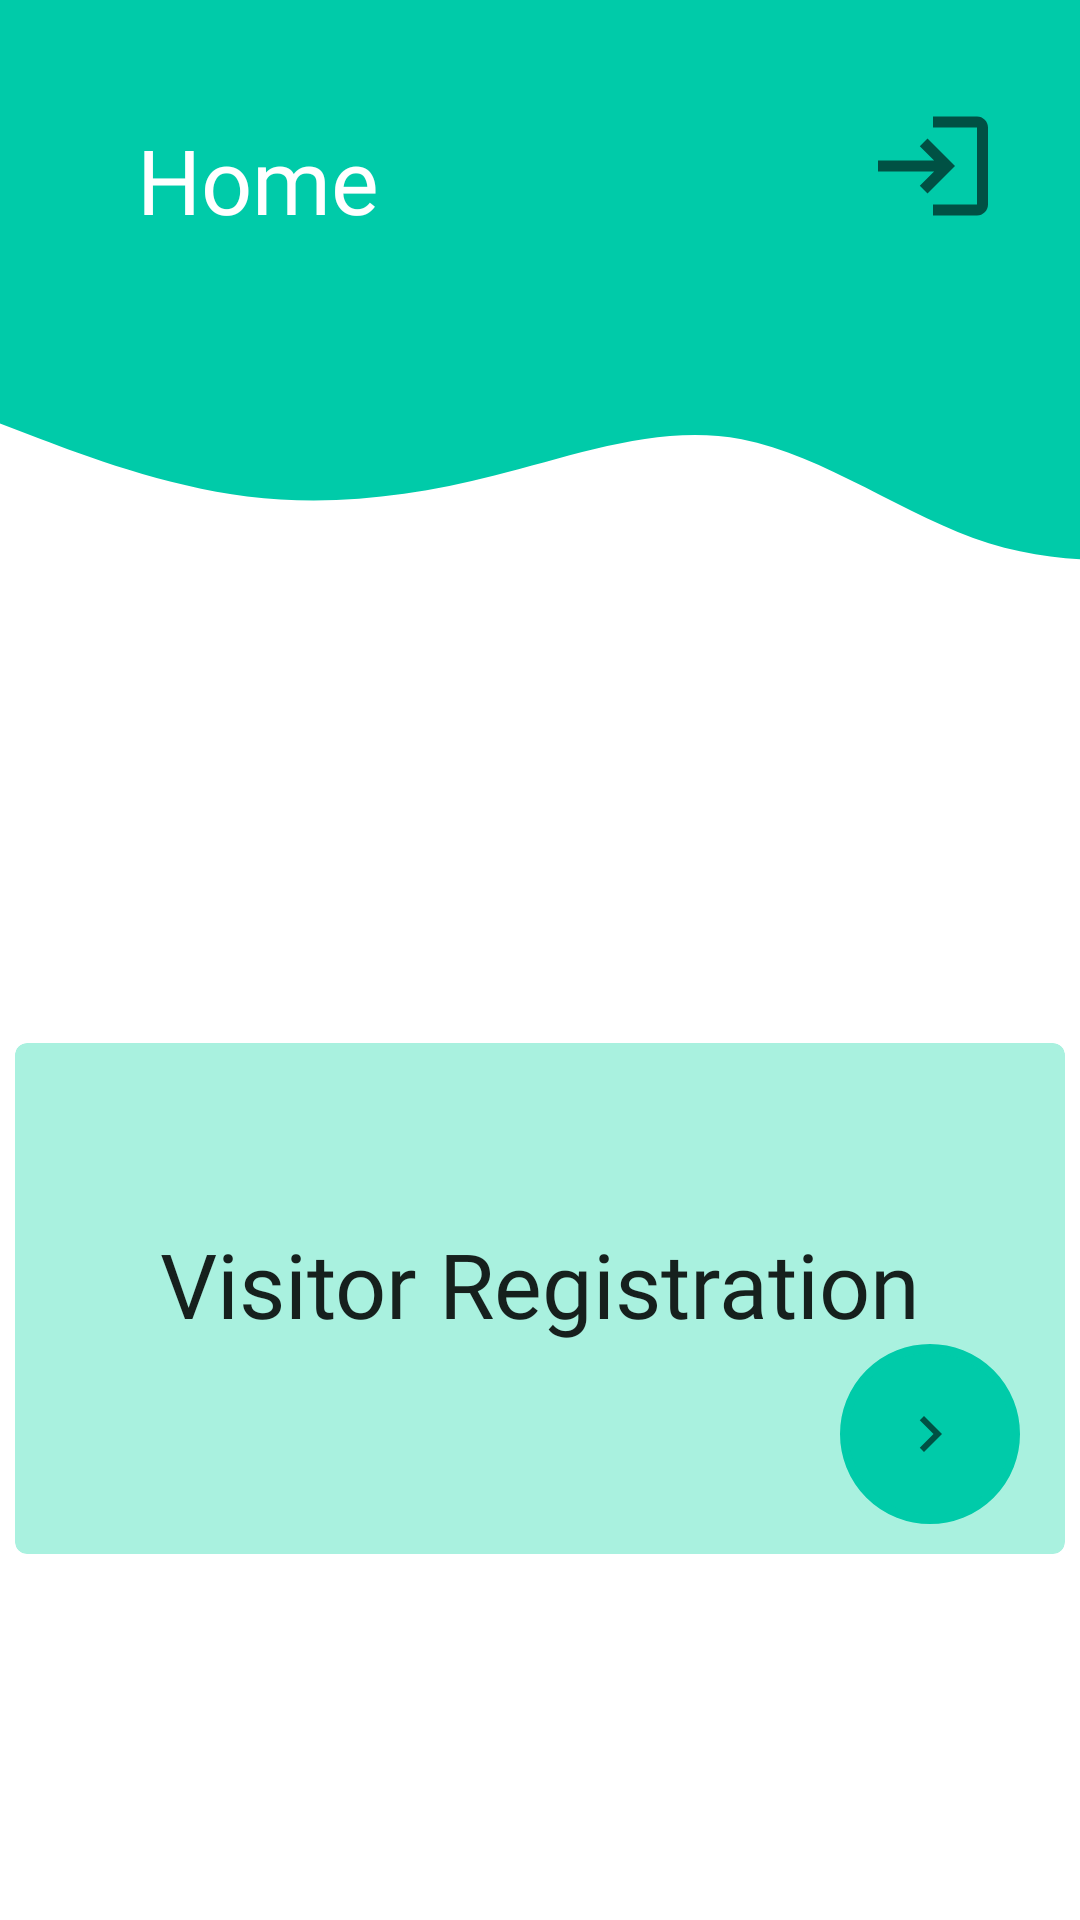

Locate icon controls on the screen. Image size 1080px x 1920px, boxes as (x1, y1, x2, y2).
next: (840, 1344, 1020, 1524)
